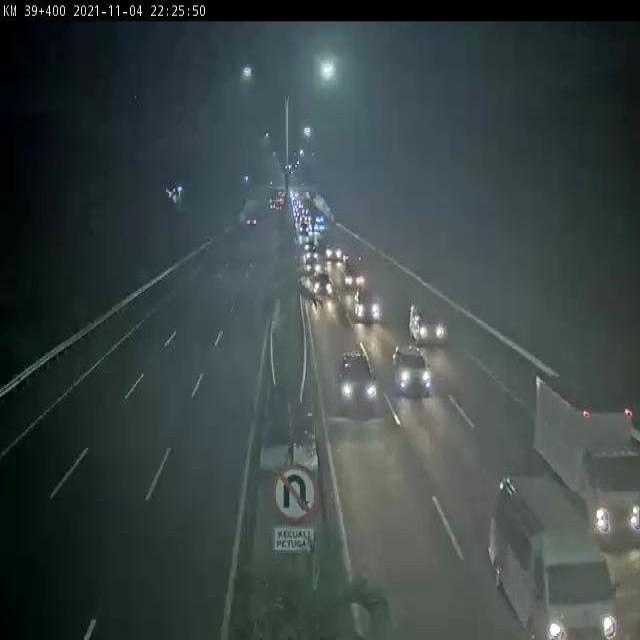car: (492, 481, 616, 640), (391, 340, 431, 412), (336, 353, 374, 415), (408, 295, 448, 352), (353, 283, 383, 329), (311, 268, 333, 299)
truck-s-: (529, 362, 640, 542), (339, 249, 364, 291)
